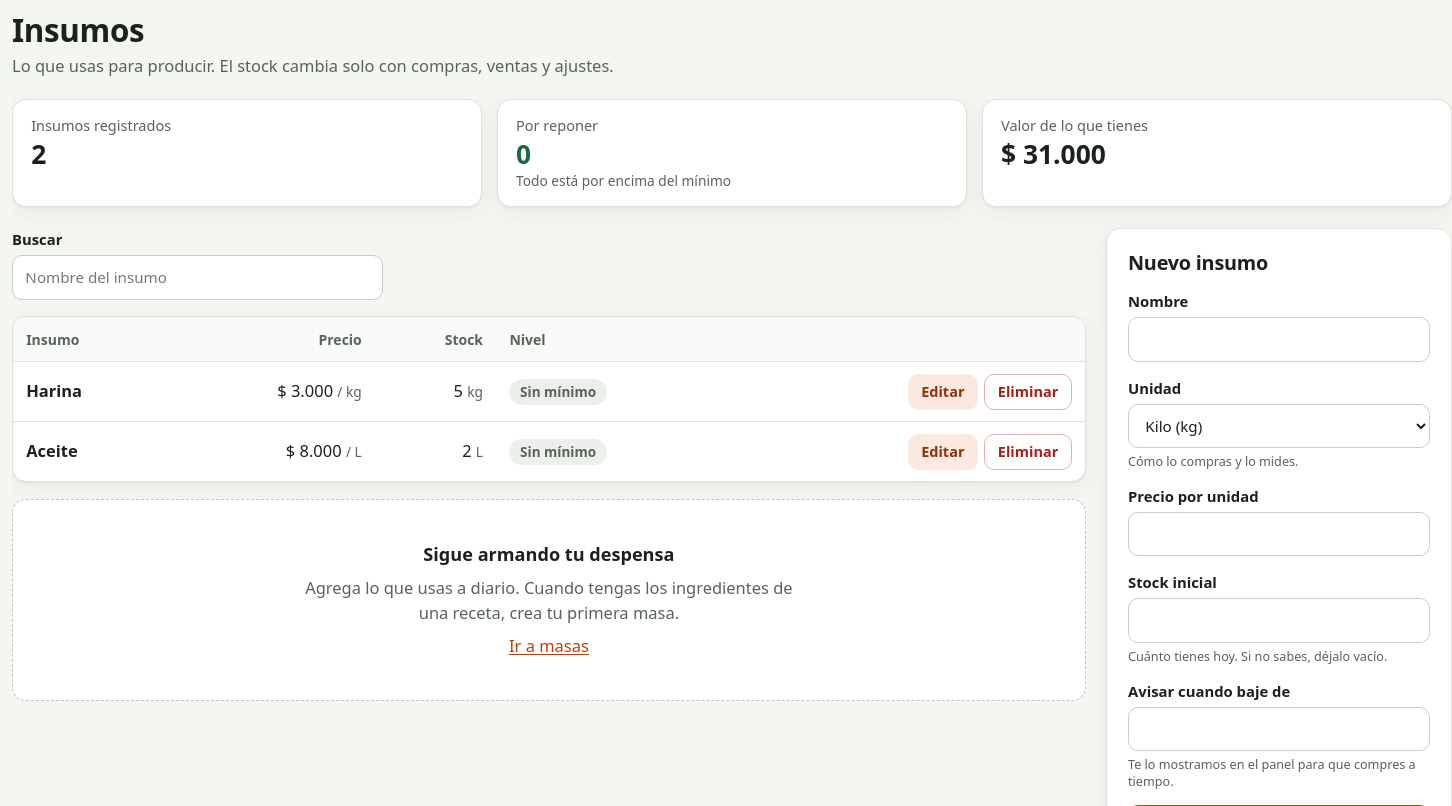
Test: HU-03 Insumos (funcionales) › CA-5: la búsqueda muestra solo coincidencias
Expected: the text "Harina" is shown, [26,379,82,402]
In the search field labelled "Buscar": (197, 277) [12,255,383,300], type "ace"
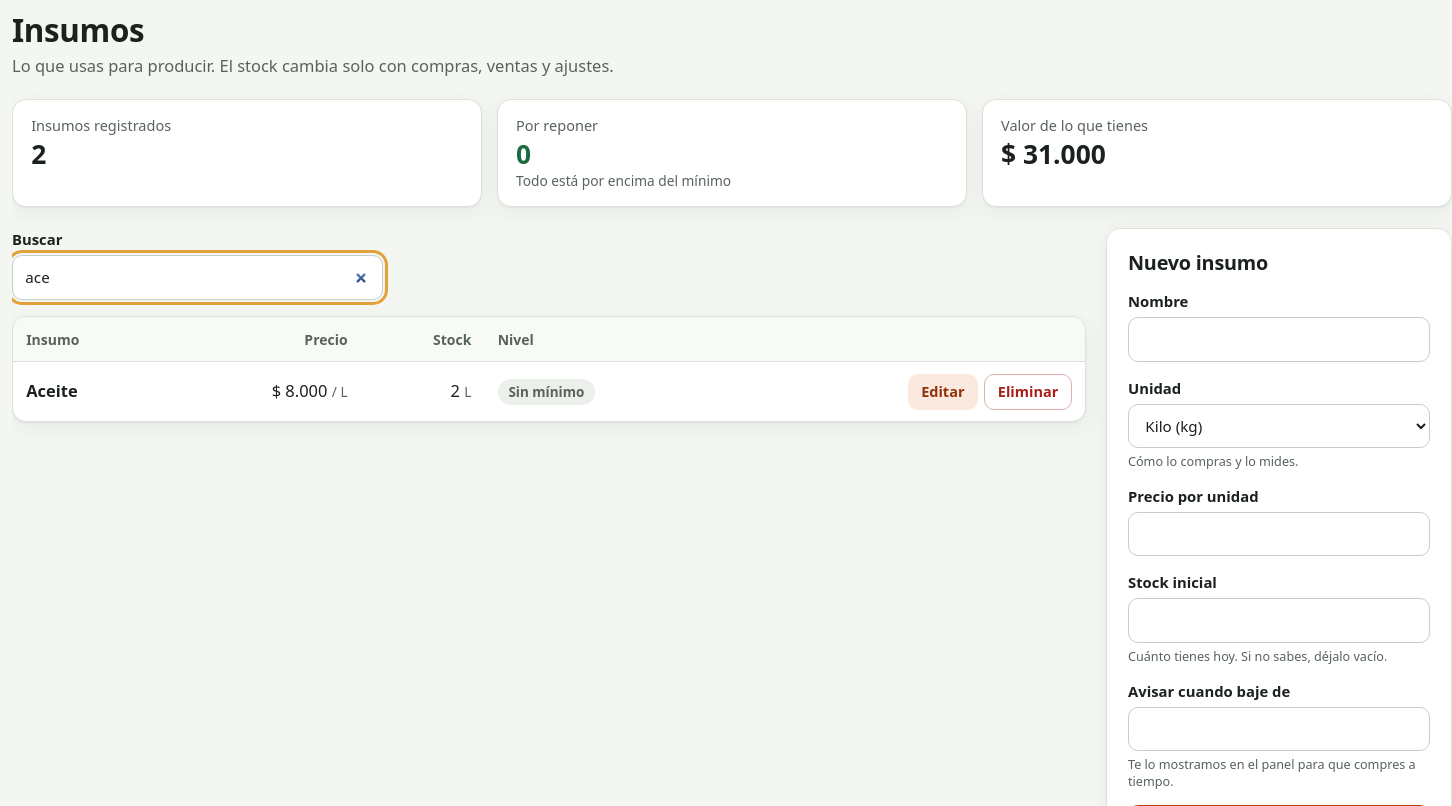
Expected: the text "Aceite" is shown, [26,379,78,402]
Expected: the text "Harina" is gone
